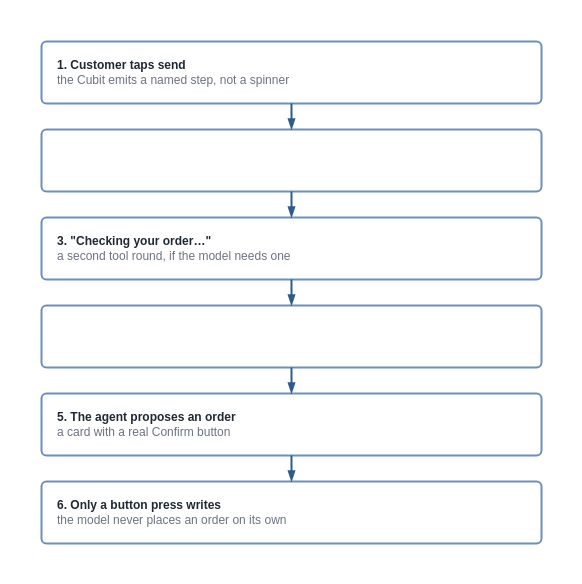
This 582x584 diagram has some shape labels left out. The centre of each missing label's shape, as x and y in pixels:
2. "Searching the menu…" the first tool round, two to four seconds: [291,160]
4. The answer arrives four to nine seconds after the tap: [291,336]
